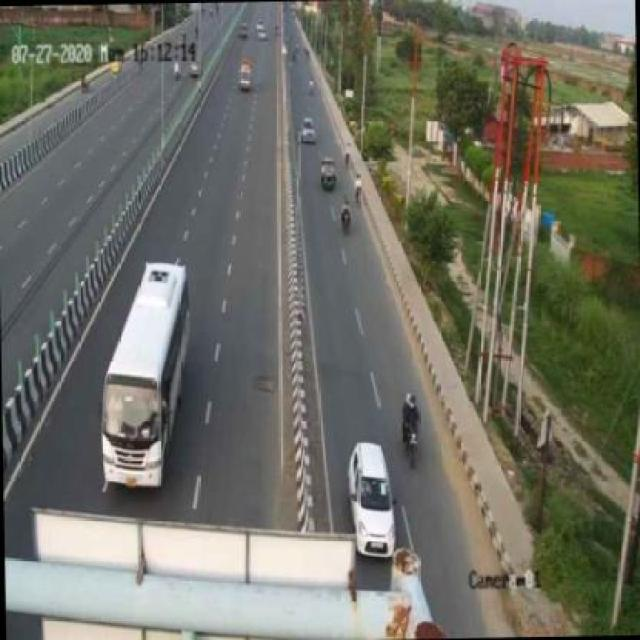car: (343, 442, 399, 556), (312, 151, 340, 191), (298, 114, 322, 146)
